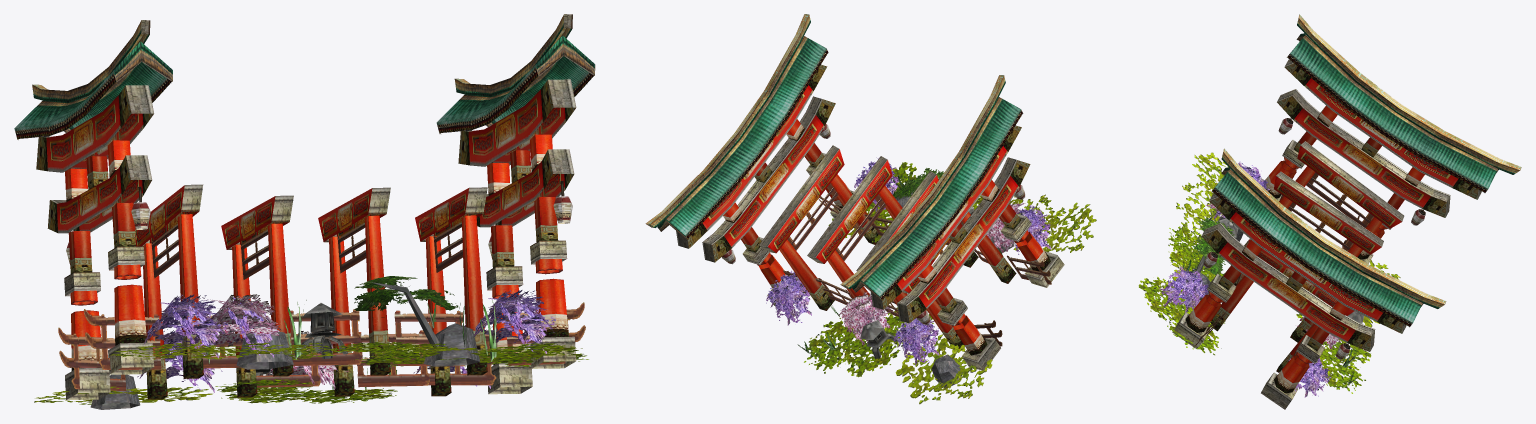
The model's file is torii_gates.fbx.
3 views of the same model, side by side, from view 1: azimuth 30°, elevation 25°; view 2: azimuth 150°, elevation 25°; view 3: azimuth 270°, elevation 25° (orthographic). The views are drawn at different scales.
Visible parts, largest first — view 1: Object01, Object03, Object02; view 2: Object01, Object03, Object02; view 3: Object01, Object03, Object02.
Boxes of the visible parts, bbox=[...] form: Object01: bbox=[14, 14, 595, 409]; Object03: bbox=[70, 259, 568, 370]; Object02: bbox=[66, 180, 572, 388]; Object01: bbox=[645, 14, 1096, 404]; Object03: bbox=[757, 174, 1050, 355]; Object02: bbox=[722, 124, 1025, 358]; Object01: bbox=[1138, 14, 1521, 409]; Object03: bbox=[1185, 157, 1387, 393]; Object02: bbox=[1203, 118, 1425, 359].
Bounding box in the file's own units: 14.02 × 14.16 × 12.04.
2 materials, 2 textured.
